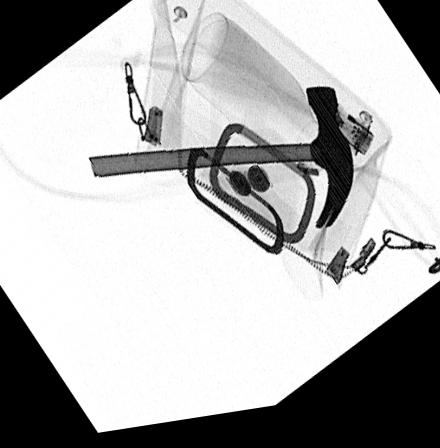Hammer: (88, 96, 353, 240)
